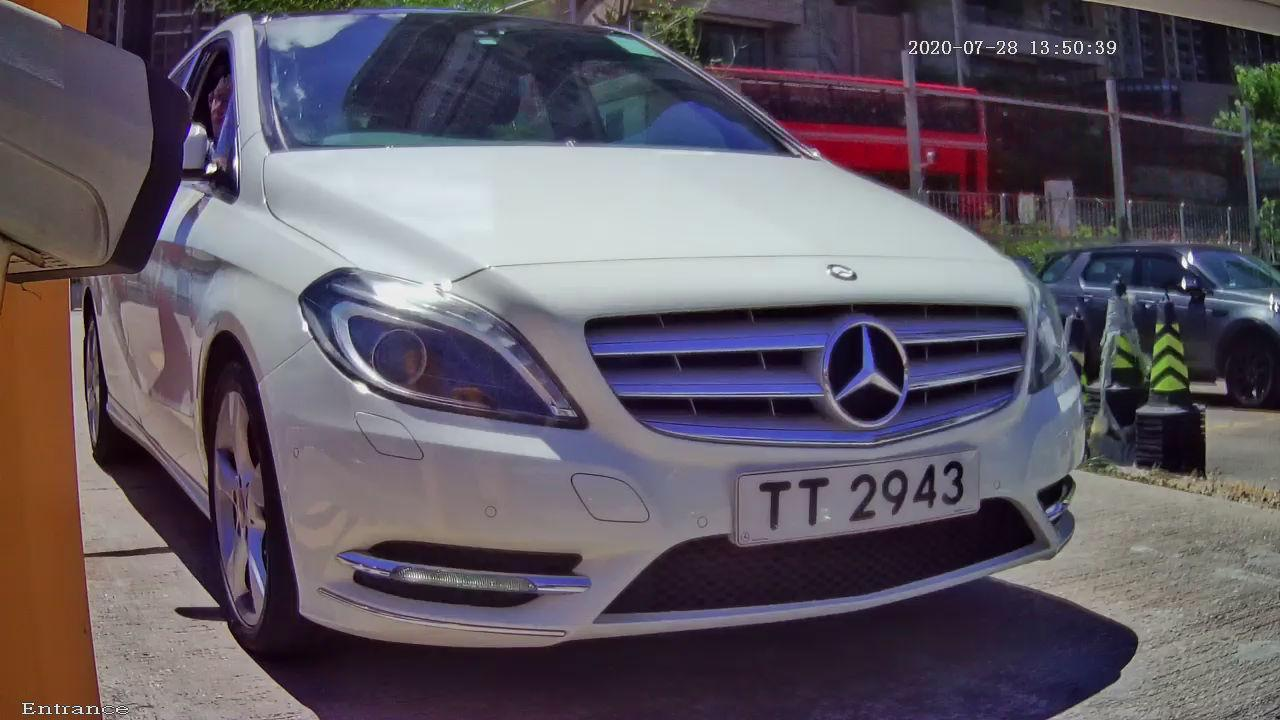privatecar: (69, 33, 1189, 685)
